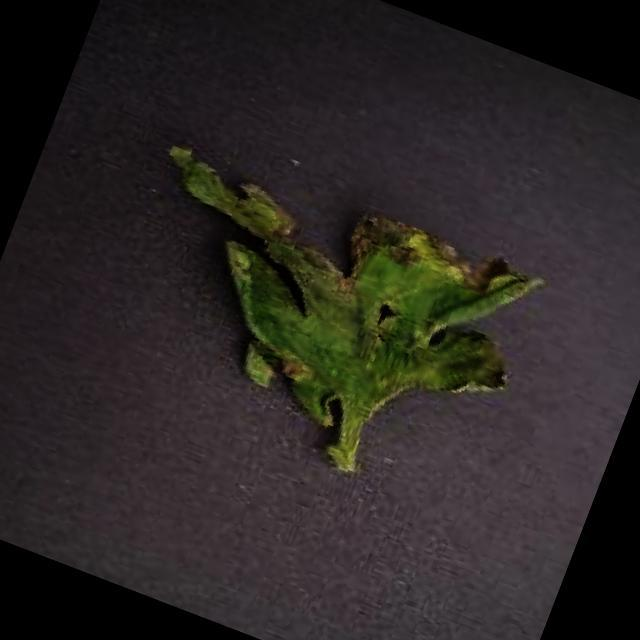Tomato late blight leaf: (72, 110, 564, 498)
